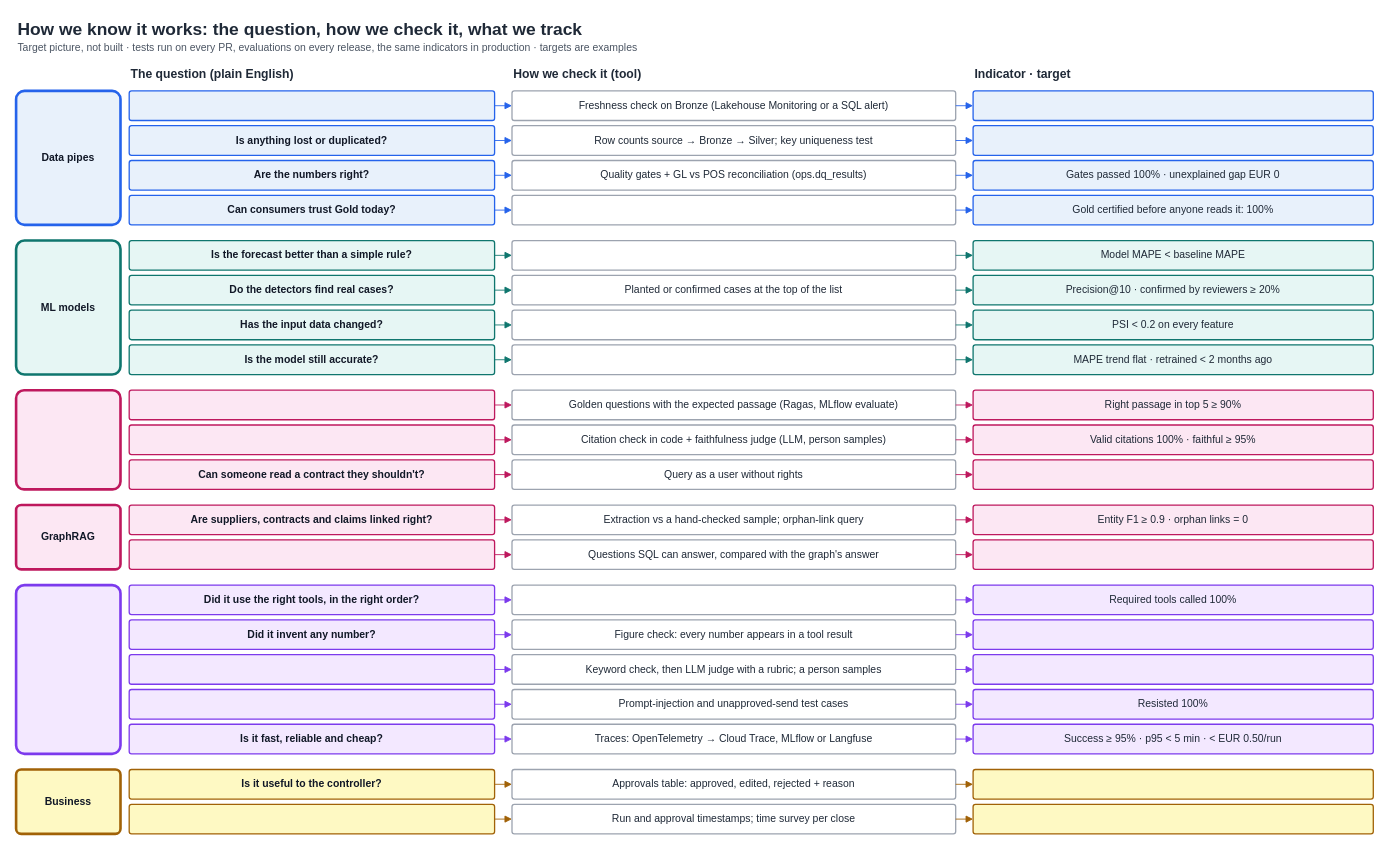
Some shapes in this 1389 by 850 pixel diagram are drawn without their labels. The box of each missing label's shape, as (x1, y1, x2, y2) in pixels:
Agent: (14, 583, 121, 755)
Approved without edits ≥ 60%: (972, 768, 1374, 799)
Backtest vs seasonal baseline, logged in MLflow: (511, 240, 956, 270)
Can it be tricked?: (128, 688, 495, 719)
Certification row per run (ops.gold_certification): (511, 194, 956, 225)
Coverage ≥ 90% · judge ≥ 4/5: (972, 654, 1374, 685)
Did it cover what matters?: (128, 654, 495, 685)
Did today's data arrive on time?: (128, 90, 495, 121)
Do multi-hop answers match the truth?: (128, 539, 495, 570)
Does it find the right clause?: (128, 389, 495, 420)
Exact match ≥ 90%: (972, 539, 1374, 570)
Forecast vs actuals every month; registry age (MLflow): (511, 344, 956, 375)
Grounded figures 100%: (972, 619, 1374, 650)
Hours since last file · by 07:00 on 99% of days: (972, 90, 1374, 121)
Is it on time and does it save time?: (128, 803, 495, 834)
Is the answer backed by its source?: (128, 424, 495, 455)
Leaks = 0: (972, 459, 1374, 490)
PSI per feature (ops.model_drift, Evidently): (511, 309, 956, 340)
RAG: (14, 388, 121, 490)
Ready by close day 2 · hours saved per close: (972, 803, 1374, 834)
Rows lost = 0 · duplicates = 0: (972, 125, 1374, 156)
Trace check on golden cases (certification first, nothing forbidden): (511, 584, 956, 615)
